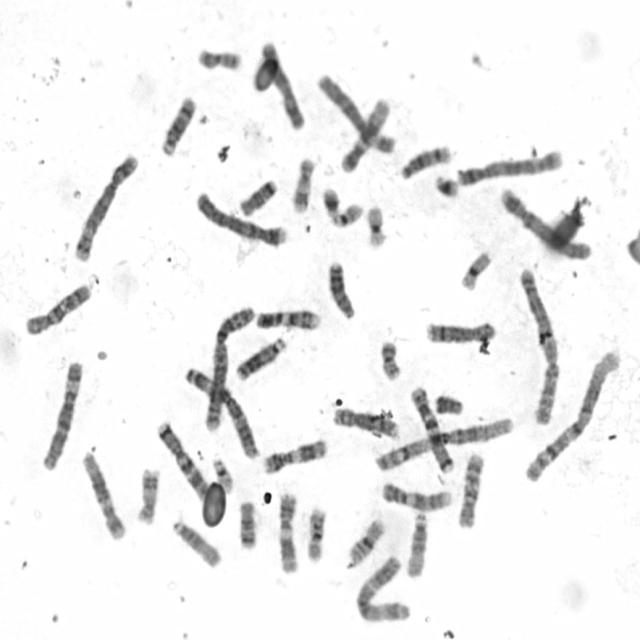A1: (521, 345, 624, 485), (370, 413, 516, 473)
A2: (201, 301, 257, 435), (516, 262, 561, 428)
A3: (182, 363, 262, 461), (351, 552, 413, 624)
B4: (497, 184, 593, 262), (193, 188, 288, 249)
B5: (71, 150, 140, 262), (454, 144, 564, 188)
C10: (22, 280, 93, 338), (454, 449, 486, 530)
C11: (258, 434, 328, 476), (274, 488, 300, 577)
C12: (79, 448, 127, 541), (335, 99, 393, 172)
C6: (316, 70, 398, 156), (39, 357, 84, 472)
C7: (153, 417, 210, 501), (407, 383, 455, 475)
C8: (330, 404, 400, 440), (423, 317, 497, 345)
C9: (378, 478, 452, 512), (253, 304, 322, 332)
D13: (233, 334, 288, 382), (326, 257, 356, 321)
D14: (158, 93, 198, 157), (398, 141, 453, 181)
D15: (169, 517, 223, 570), (403, 508, 430, 579)
E16: (345, 515, 387, 566), (303, 504, 328, 563)
E17: (289, 154, 318, 216), (134, 464, 161, 526)
E18: (236, 176, 279, 218), (236, 496, 258, 551)
F19: (457, 248, 493, 292), (363, 201, 388, 250)
F20: (194, 44, 244, 72), (376, 336, 404, 382)
G21: (432, 170, 461, 200), (319, 184, 341, 220)
G22: (210, 454, 236, 494), (328, 200, 365, 228)
X: (252, 39, 307, 133)
Y: (432, 391, 465, 416)
